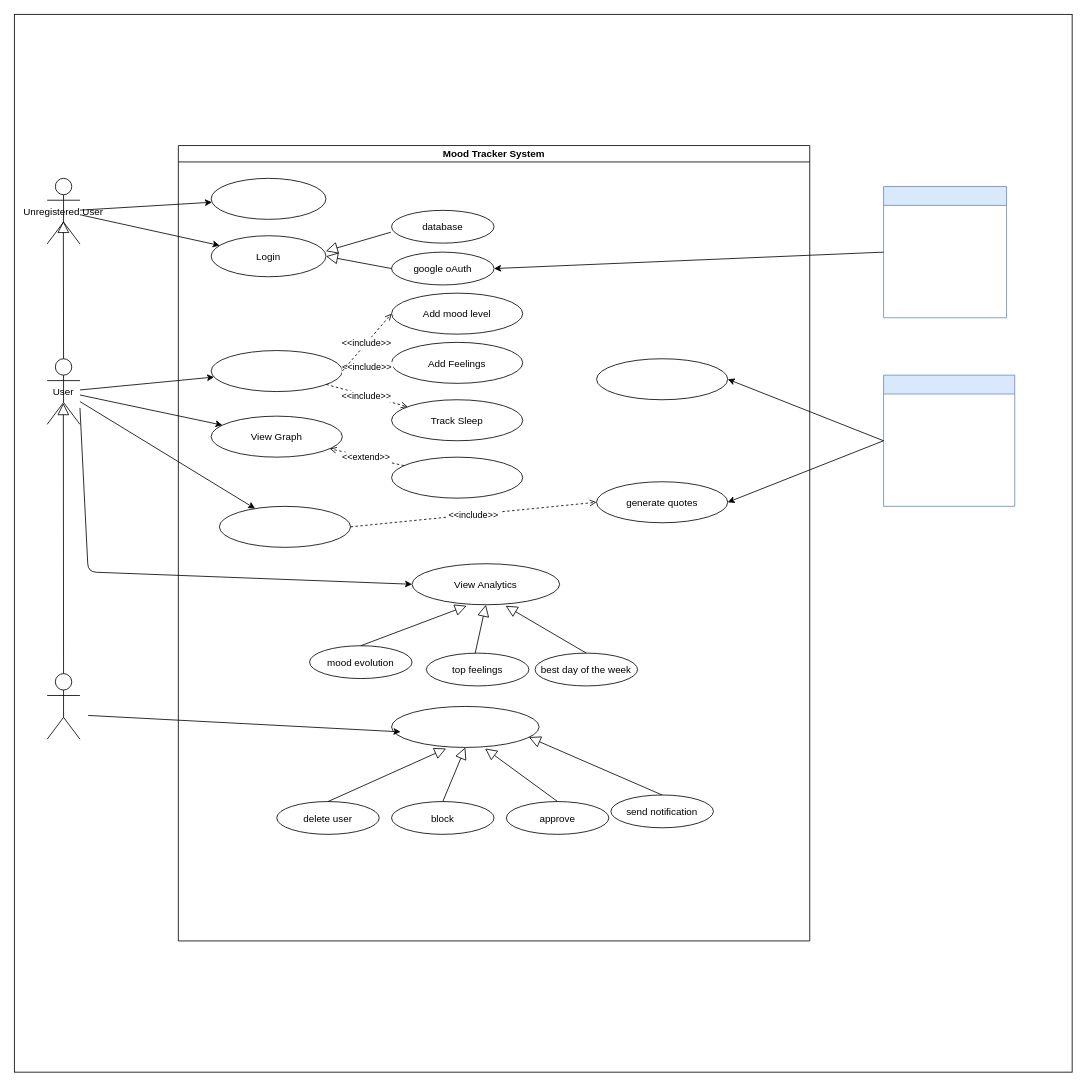
Some shapes in this 1087 by 1087 pixel diagram are drawn without their labels. The centre of each missing label's shape, as x and y in pixels:
"Admin" goes at point 63,706.
"Analyse Journal" goes at point 662,379.
"Gemini Service" goes at point 949,440.
"Get Quotes" goes at point 285,526.
"Google OAuth Service" goes at point 945,252.
"Manage Users" goes at point 465,726.
"Record Mood" goes at point 276,371.
"Register" goes at point 268,198.
"View Details" goes at point 457,477.
